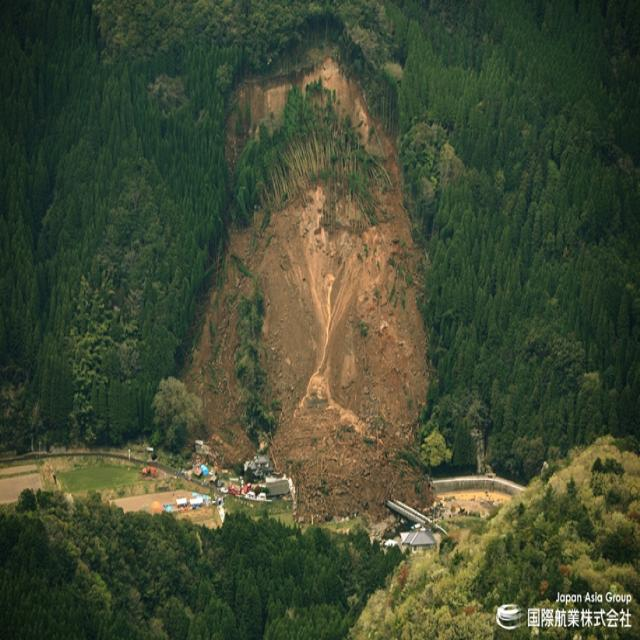Debris-flow: (184, 56, 430, 523)
